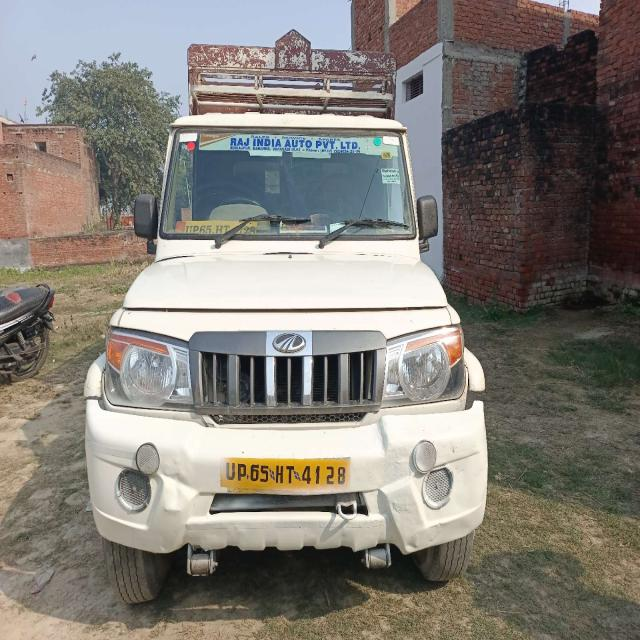light_vehicle: (76, 122, 488, 562)
